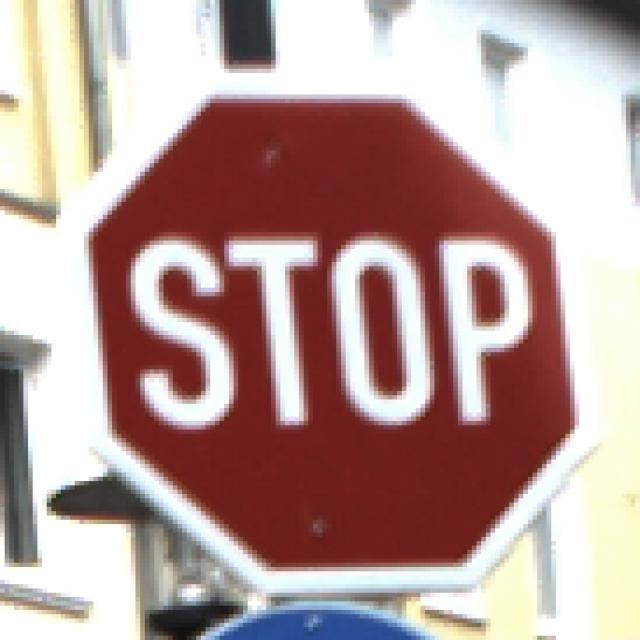STOP: (57, 53, 590, 585)
